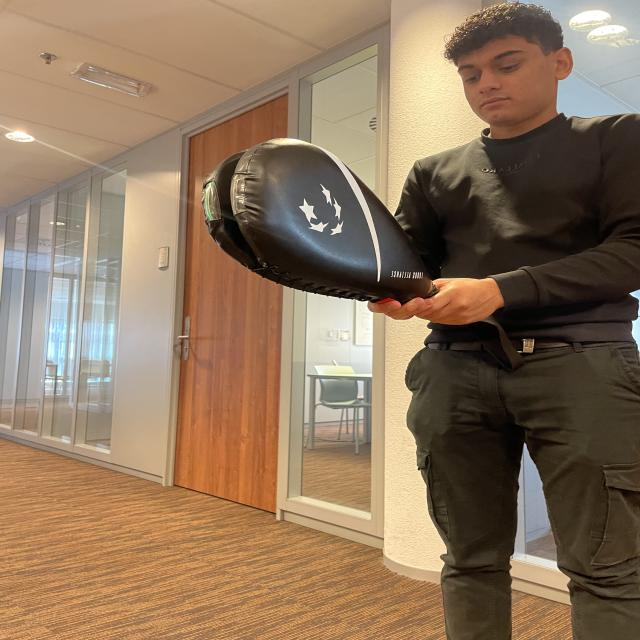paddle: (203, 136, 421, 298)
trigger: (200, 177, 220, 224)
